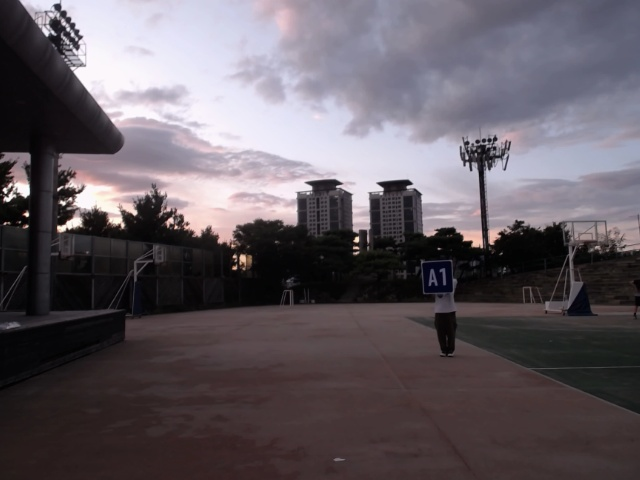delivery_a1: (421, 261, 454, 294)
